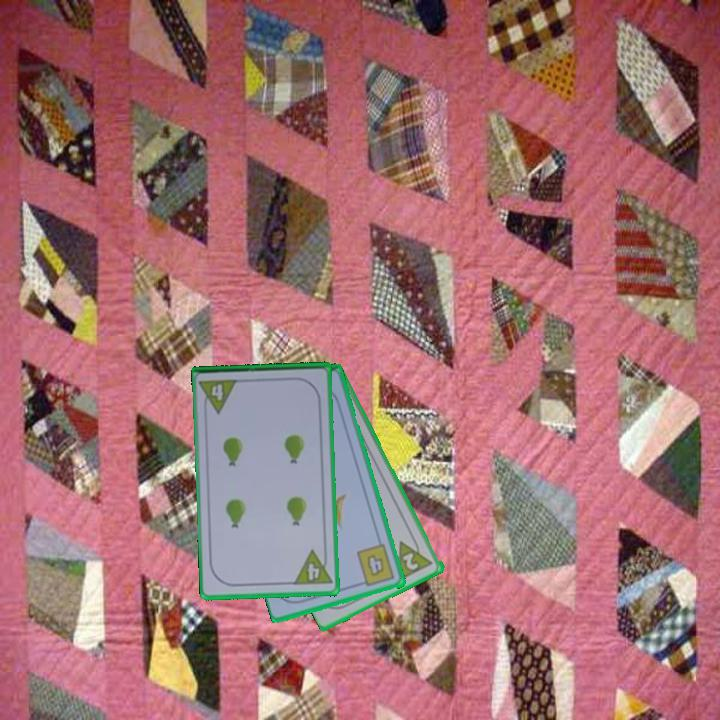2p: (394, 532, 436, 583)
4b: (354, 541, 398, 589)
4p: (290, 546, 335, 588), (197, 376, 241, 416)
